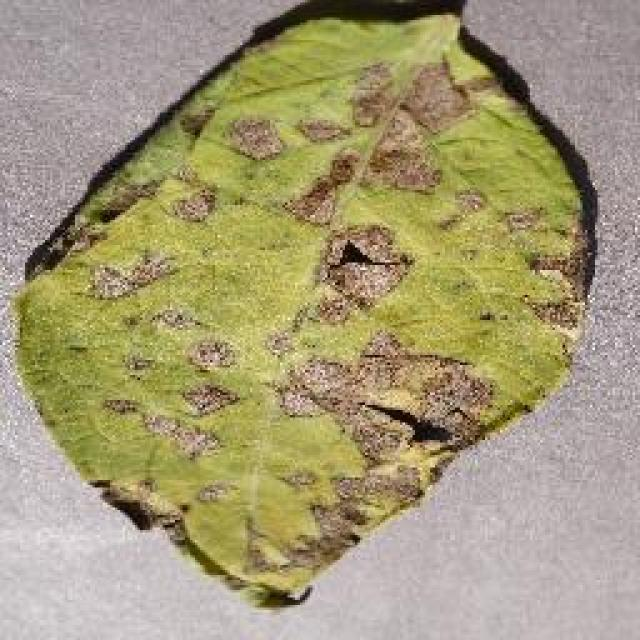Potato___Early_blight: (13, 6, 591, 611)
